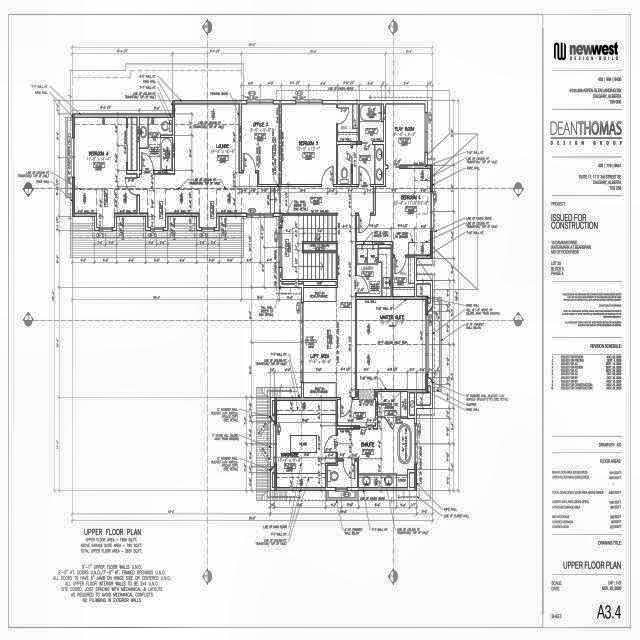room: (337, 392, 415, 487), (75, 117, 137, 227), (357, 169, 430, 255), (277, 401, 336, 487), (281, 104, 336, 184), (241, 104, 279, 184), (386, 104, 425, 165), (357, 245, 391, 296), (139, 118, 172, 170), (353, 145, 383, 184), (337, 399, 376, 426), (360, 104, 383, 141), (327, 461, 357, 487), (338, 104, 358, 141), (392, 257, 414, 287), (338, 145, 351, 184)
